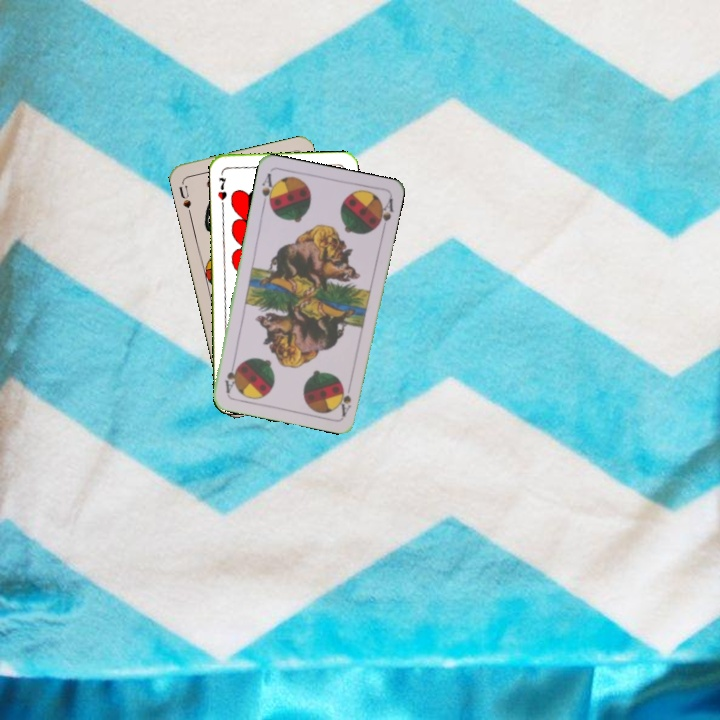H7: (214, 173, 229, 203)
SA: (257, 169, 278, 211), (336, 378, 354, 418)
SU: (175, 181, 194, 218)
